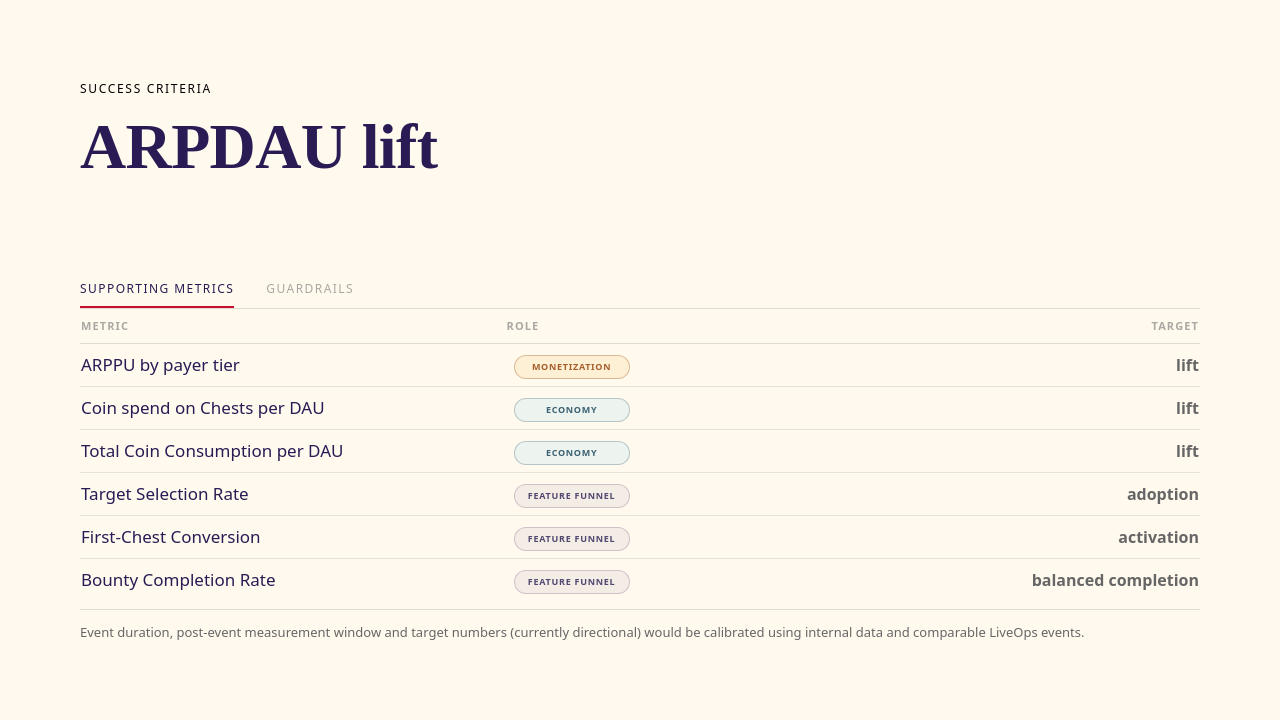
Test case: MA presentation validation chapter › keeps ARPDAU dominant and switches between supporting metrics and guardrails
Expected: the heading "ARPDAU lift" is shown, [80, 111, 437, 182]
Expected: the button "Card Collections Completed per Player" is not shown
Click the tab "Guardrails" at x=310, y=293, box [266, 278, 354, 308]
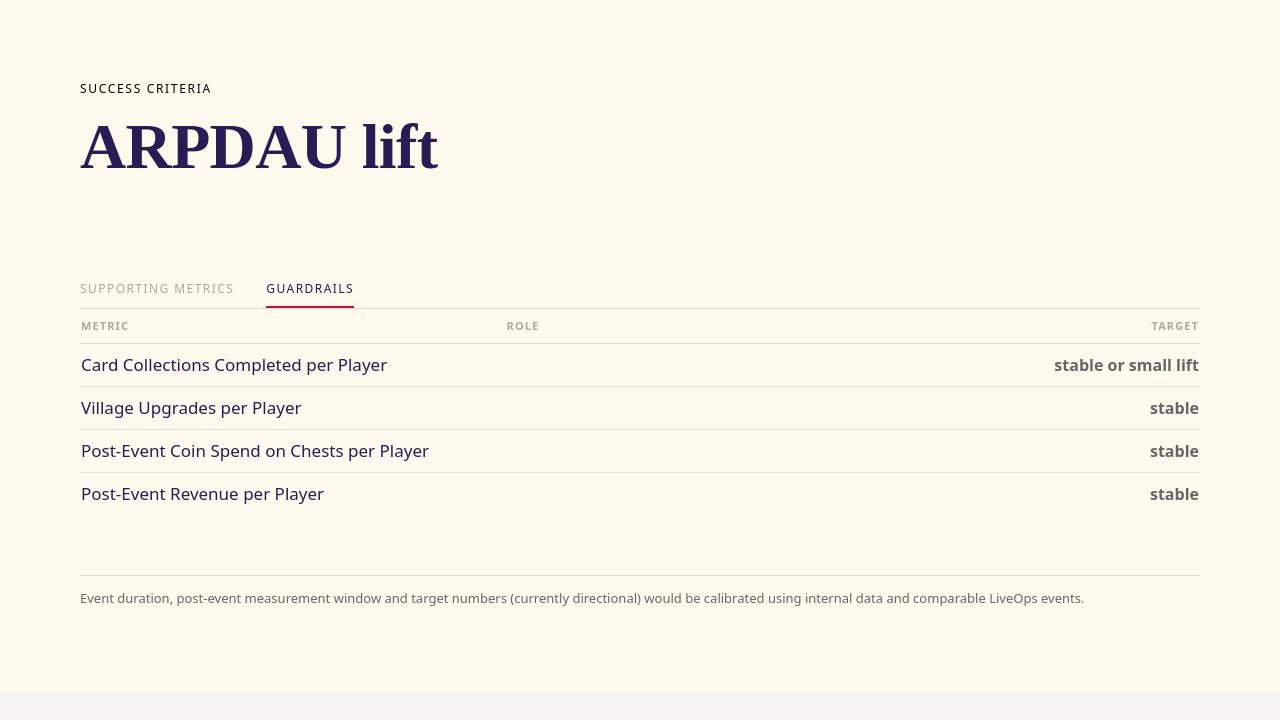
Result: the button "ARPPU by payer tier" is gone
Result: the button "Coin spend on Chests per DAU" is gone
Result: the button "Total Coin Consumption per DAU" is gone
Focus the button "Card Collections Completed per Player" at x=285, y=365, box [81, 345, 490, 385]
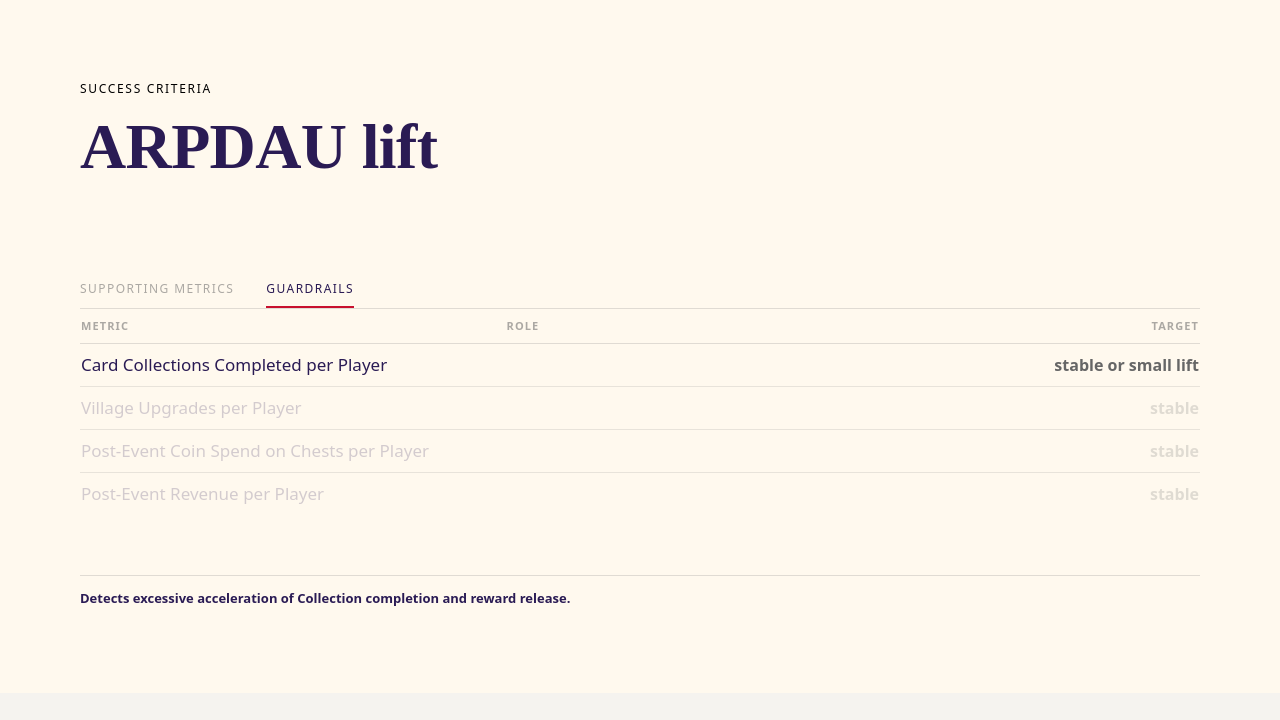
Result: the row "Village Upgrades per Player" has class "opacity-20" at [80, 386, 1200, 429]
Result: the row "Post-Event Coin Spend on Chests per Player" has class "opacity-20" at [80, 429, 1200, 472]
Result: the row "Post-Event Revenue per Player" has class "opacity-20" at [80, 472, 1200, 515]
Leave the button "Card Collections Completed per Player", box [81, 345, 490, 385]
Result: the button "Card Collections Completed per Player" is expanded
Move the pointer off the button "Card Collections Completed per Player", box [81, 345, 490, 385]
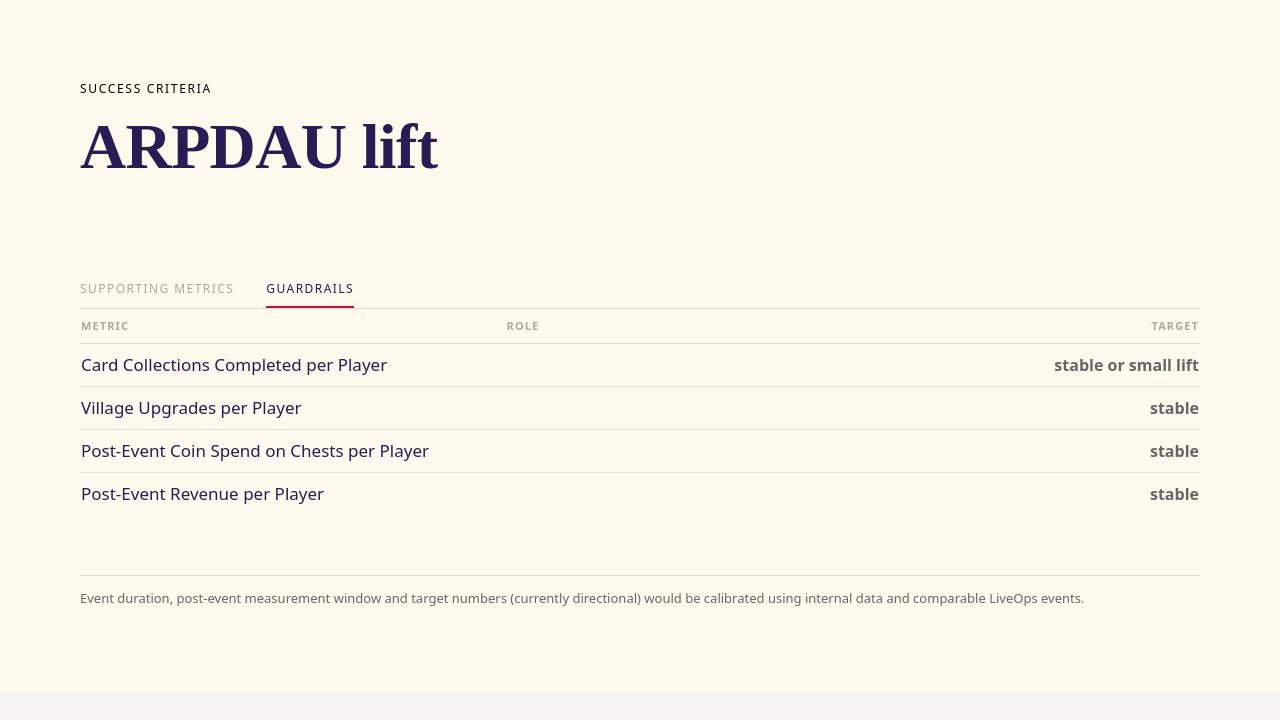
Hover over the button "Card Collections Completed per Player" at x=285, y=365, box [81, 345, 490, 385]
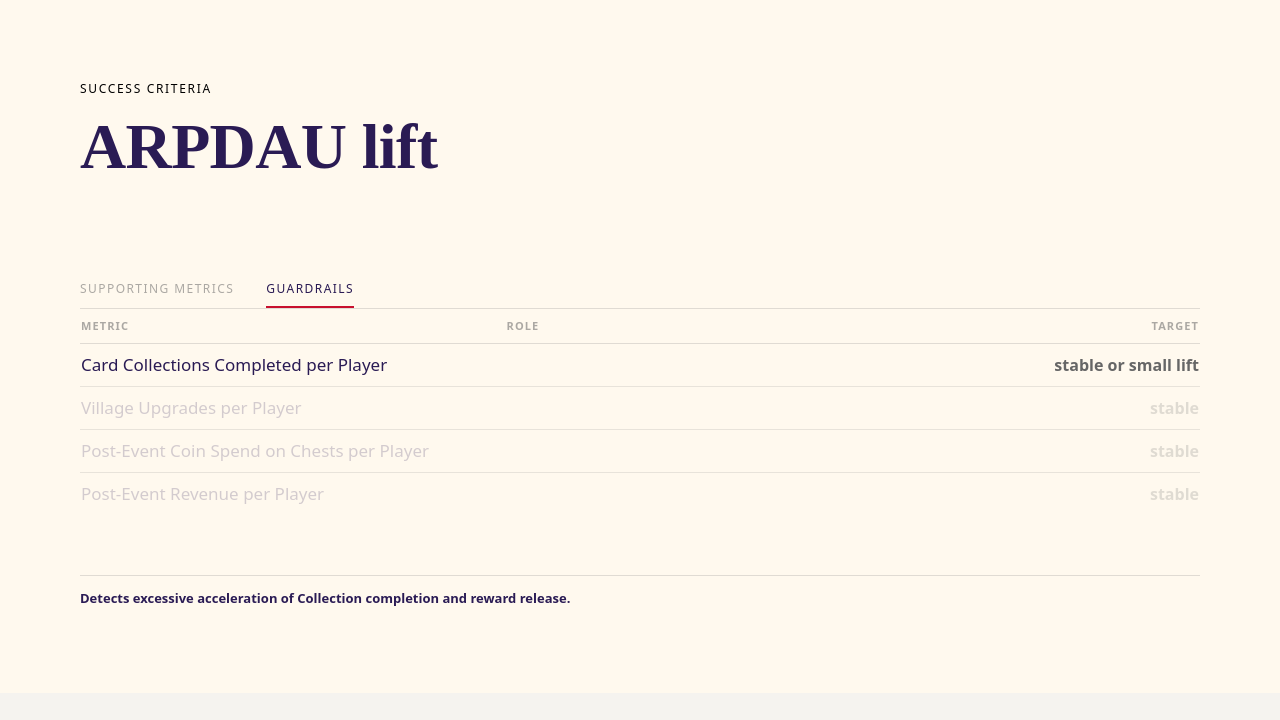
Move the pointer off the button "Card Collections Completed per Player", box [81, 345, 490, 385]
Result: the button "Card Collections Completed per Player" is expanded
Leave the button "Card Collections Completed per Player", box [81, 345, 490, 385]
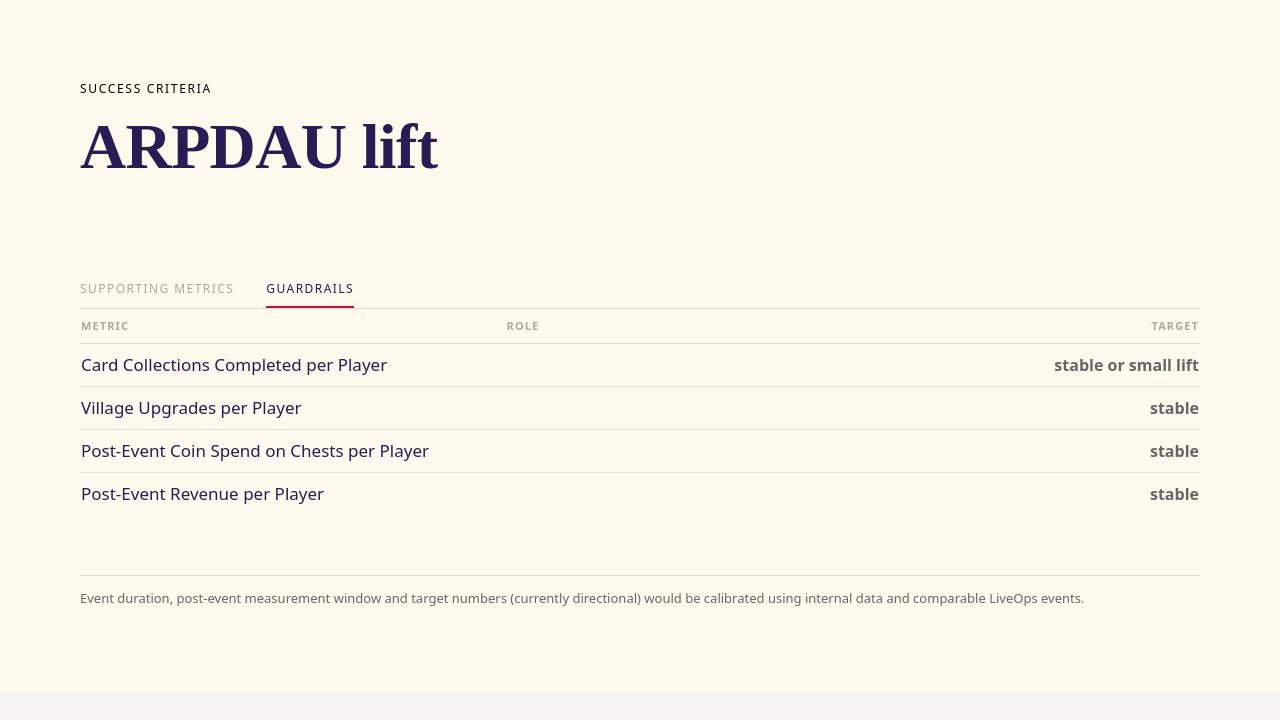
Result: the message named "Metric detail" shows "Event duration" at [80, 589, 1084, 607]
